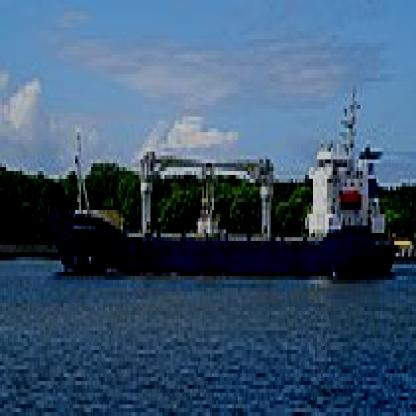Tanker: (54, 132, 400, 284)
